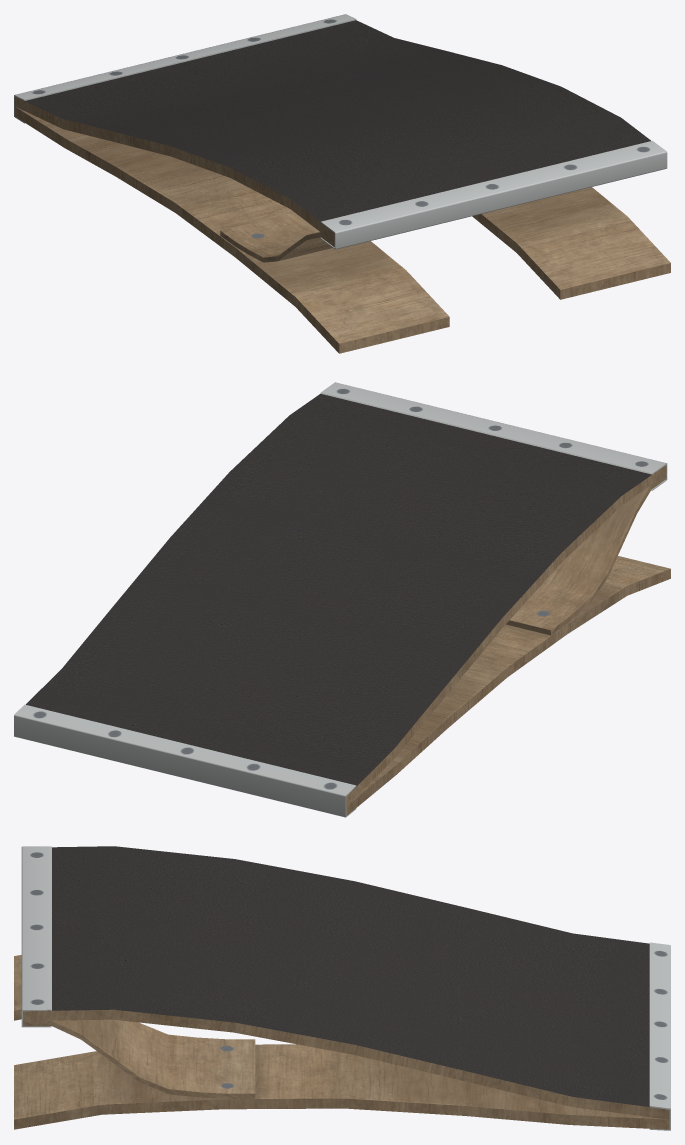
The model's file is SportTrampline01.FBX.
3 renders of one model, top to bottom at view 1: azimuth 30°, elevation 25°; view 2: azimuth 150°, elevation 25°; view 3: azimuth 270°, elevation 25°, orthographic.
Visible parts, largest first — view 1: SportTrampline01_LOD0; view 2: SportTrampline01_LOD0; view 3: SportTrampline01_LOD0.
Boxes of the visible parts, x1,y1,x2,y2 form: SportTrampline01_LOD0: (14, 14, 670, 353); SportTrampline01_LOD0: (14, 382, 670, 817); SportTrampline01_LOD0: (14, 846, 670, 1130).
Size of what is drawn, in the model's own units: 0.8991 by 0.3103 by 1.53.
